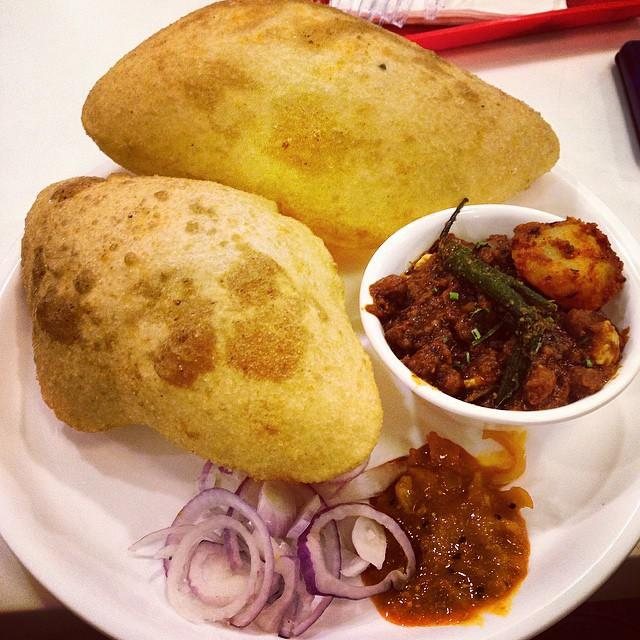Bhatura: (84, 0, 559, 255), (23, 178, 385, 484), (364, 218, 624, 410)
